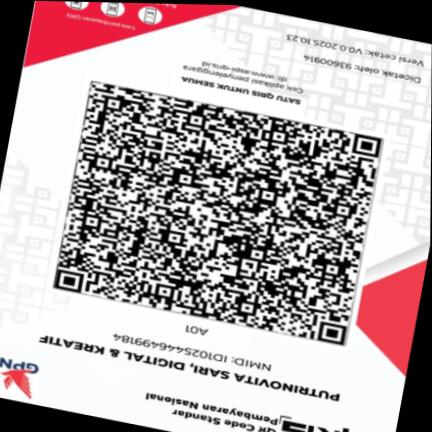Barcode_Palsu: (44, 74, 390, 353)
